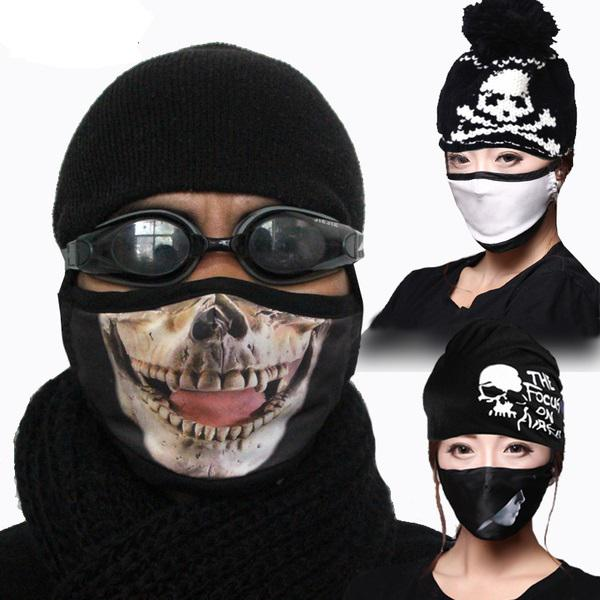OK: (86, 205, 357, 464), (438, 424, 552, 538), (441, 137, 553, 249)
